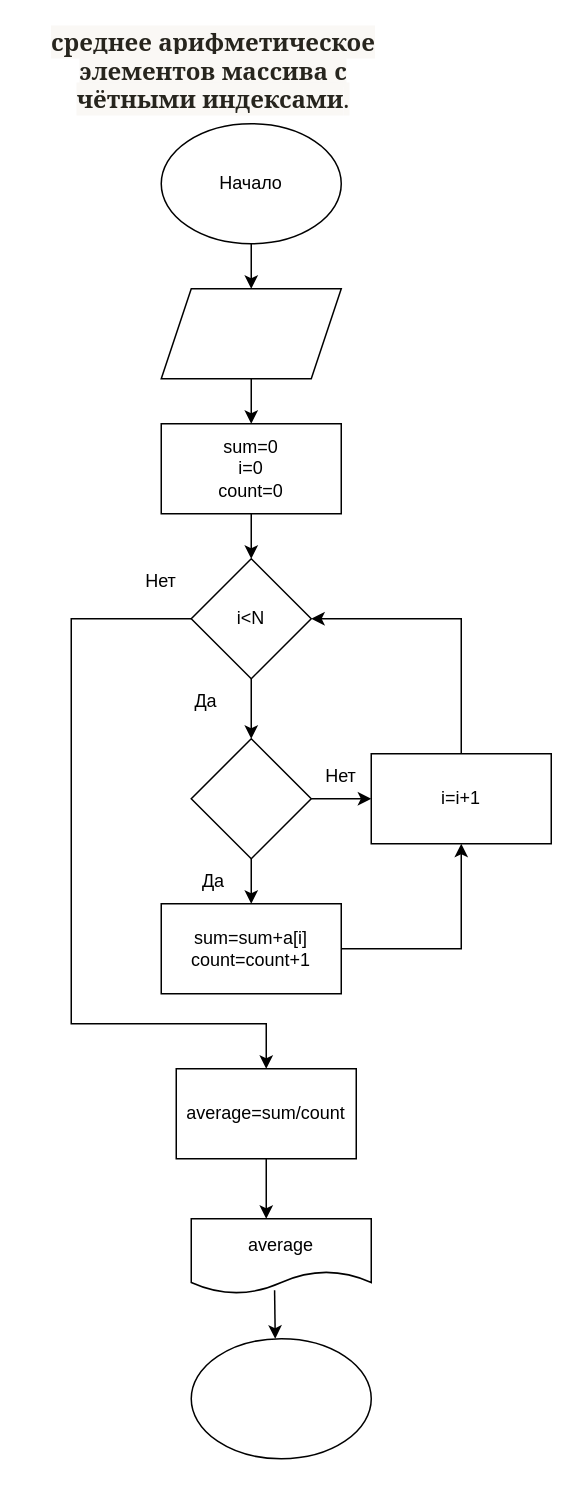
Image size: 578x1485. Some labels were removed from this diagram. Each missing label, with the box of its shape:
i%2=0: (190, 737, 311, 859)
N, A[]: (160, 287, 341, 379)
Конец: (190, 1337, 371, 1459)
